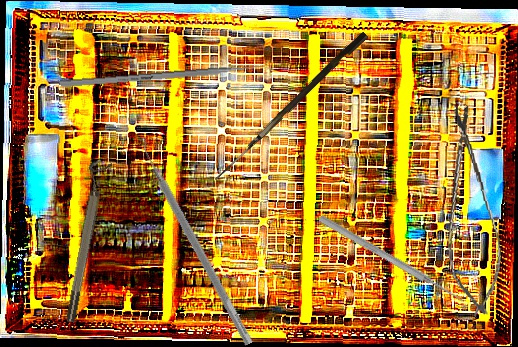Fixation Ring: (56, 158, 112, 324)
Hook Surgical: (214, 28, 369, 188)
Micro Scissor: (433, 103, 508, 319)
Pusher: (317, 213, 466, 306), (60, 61, 276, 89)
Spatula Surgical: (133, 134, 262, 347)
